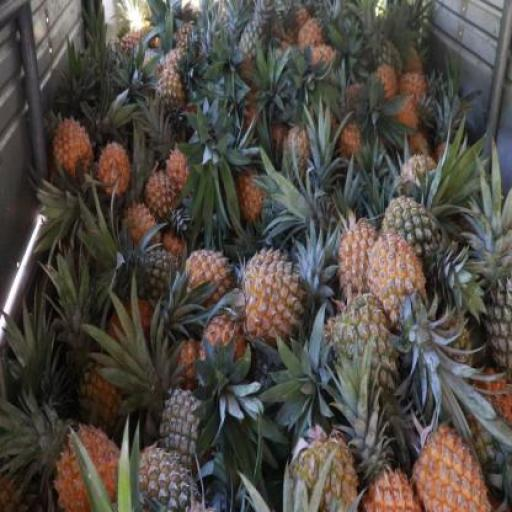------------------------------: (324, 308, 392, 408), (384, 200, 448, 298), (79, 360, 129, 434), (155, 70, 188, 128)
Pineapple - v8 v1: (411, 423, 490, 511), (52, 424, 129, 511), (366, 234, 428, 336), (241, 251, 304, 346), (336, 223, 385, 312), (198, 314, 244, 394), (54, 116, 94, 177), (184, 251, 226, 307), (97, 142, 128, 201), (143, 170, 181, 216)
